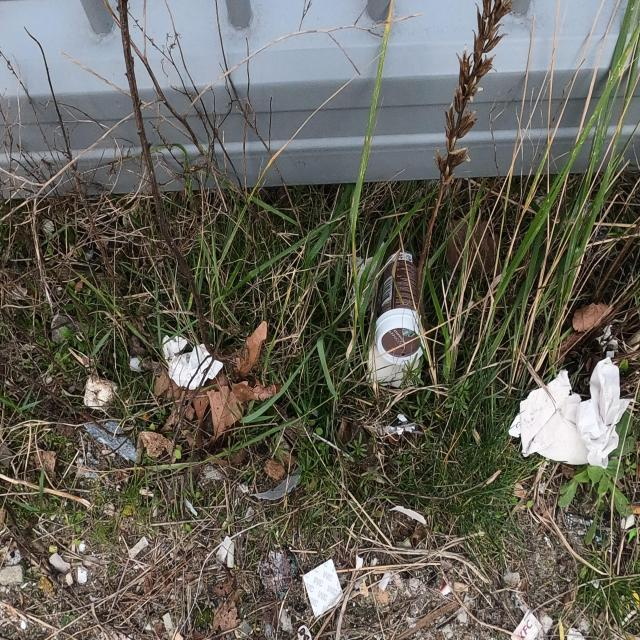Cup: (373, 248, 428, 367)
Paper: (509, 350, 637, 474), (158, 332, 226, 392)
